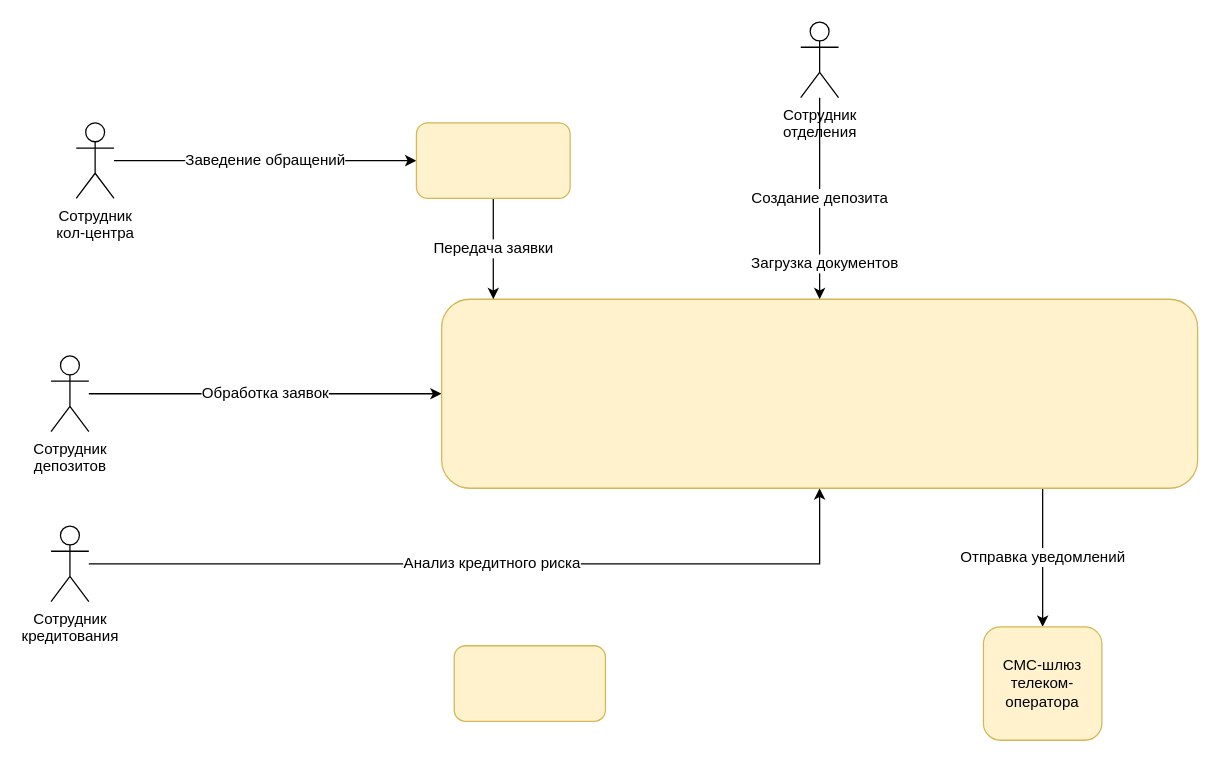
Some shapes in this 1220 by 762 pixel diagram are drawn without their labels. The box of each missing label's shape, as (x1, y1, x2, y2) in pixels:
АБС: (440, 298, 1198, 488)
Сайт: (453, 644, 605, 721)
Система кол-центра: (415, 122, 570, 198)
